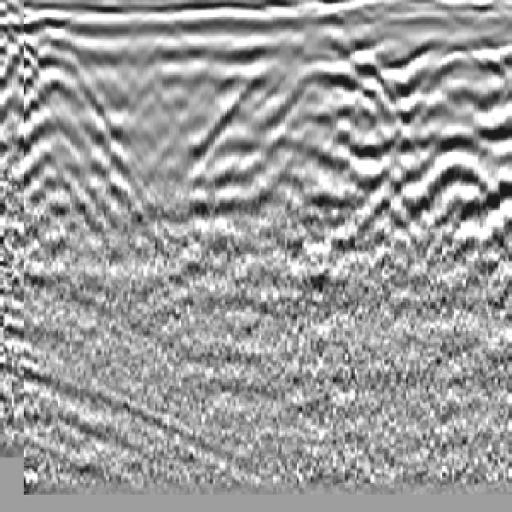non-metallic: (296, 35, 512, 269), (1, 30, 114, 248)
